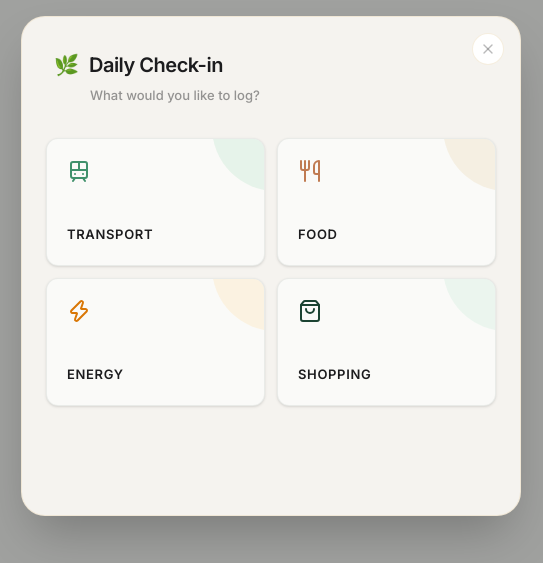
Test: LogModal › shows a back button after selecting a category from chooser
Select a category
Click the button "Transport".
click(156, 202)  # box [46,138,265,266]
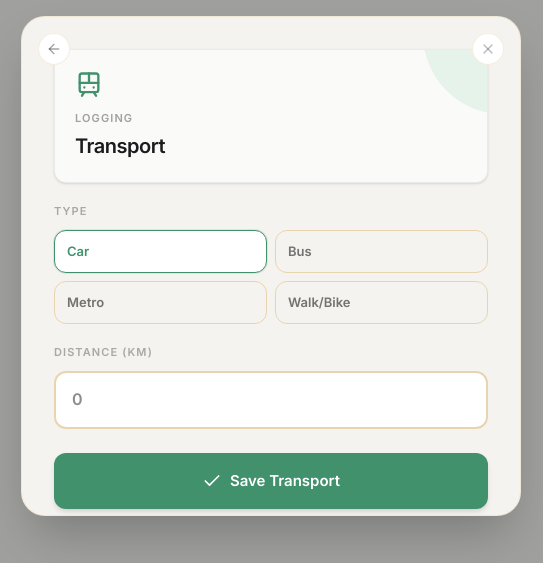
Expected: the button "Car" is shown, [54,230,267,273]
